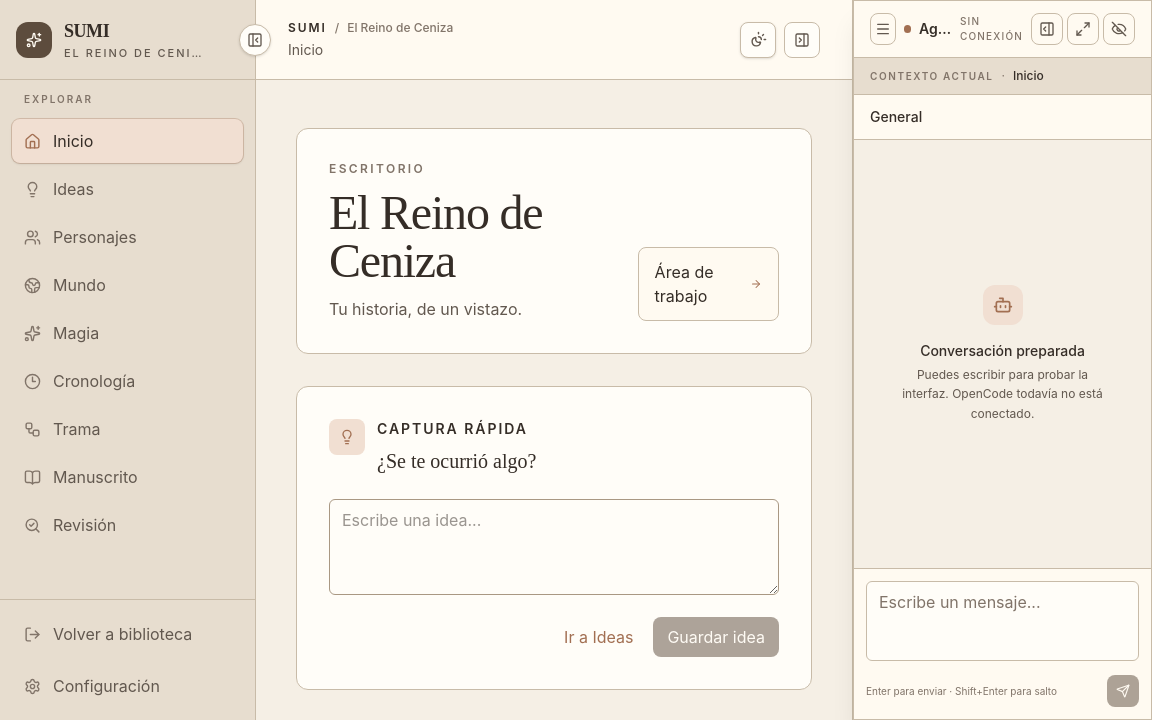
SUMI shell › opens the workspace start screen without an active scene
The width and height of the screenshot is (1152, 720).
Click the button "Área de trabajo".
click(708, 284)  # box [638,247,779,321]
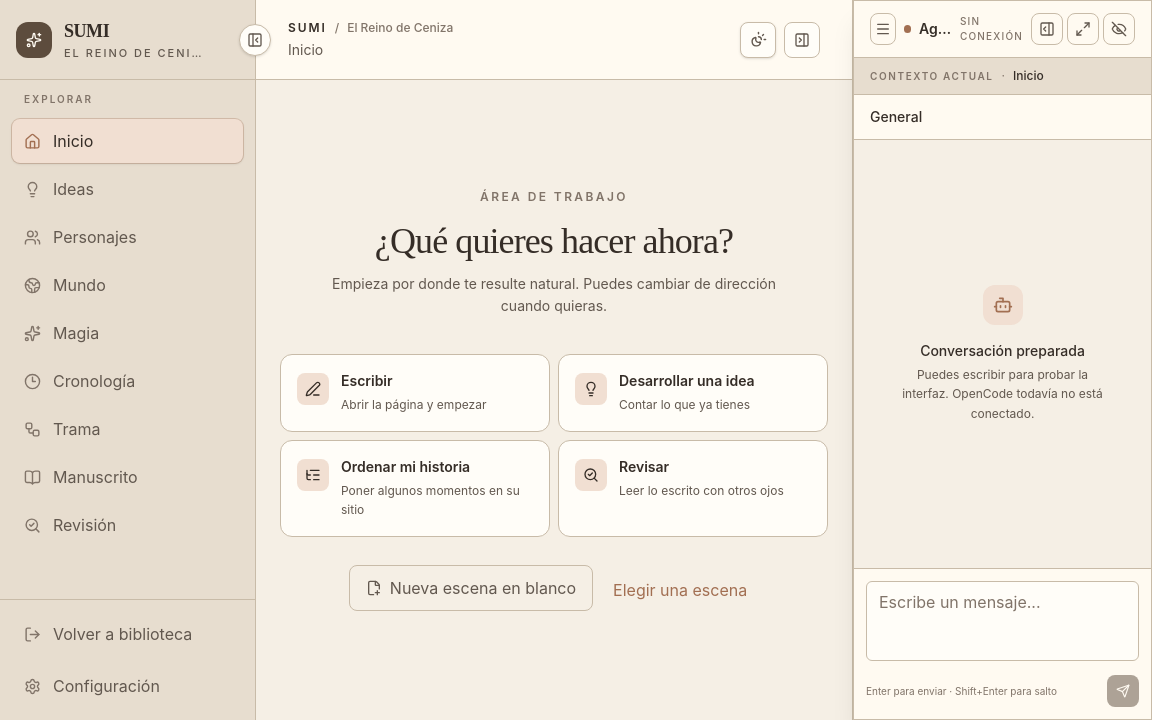
Expected: the heading "¿Qué quieres hacer ahora?" is shown, [375,220,733,260]
Expected: the button "Nueva escena en blanco" is shown, [349,564,593,610]
Click the button with aria-label "Elegir escena".
click(680, 590)  # box [601,568,759,612]
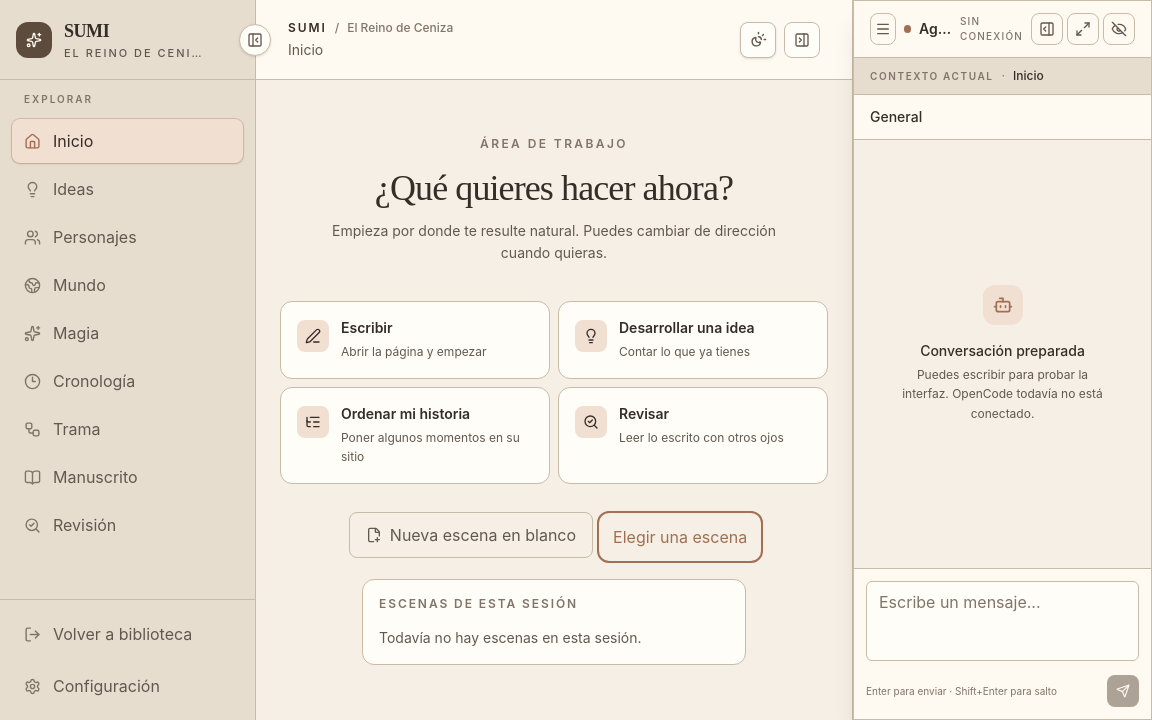
Expected: the text "Todavía no hay escenas en esta sesión." is shown, [379,628,642,646]
